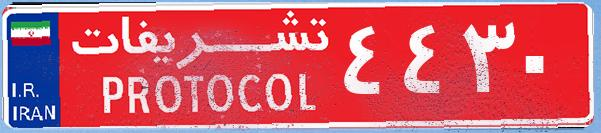0: (520, 20, 580, 115)
3: (460, 20, 520, 115)
4: (340, 20, 400, 115), (400, 20, 460, 115)
تشریفات: (60, 8, 340, 125)
